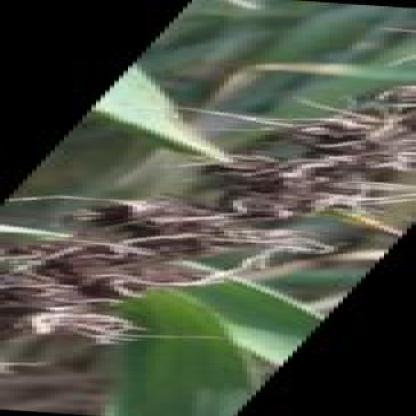Wheat Smut: (15, 246, 112, 322), (222, 160, 364, 206), (106, 213, 227, 265), (316, 112, 416, 152), (131, 270, 222, 282), (128, 200, 196, 214), (368, 90, 411, 105)
